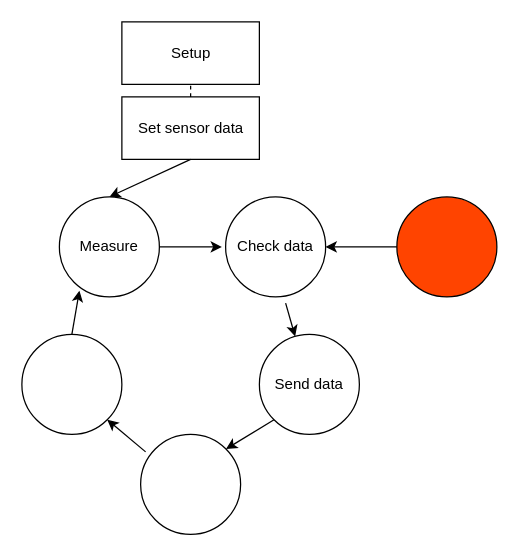
Image size: 519x556. Some labels were removed from this diagram. The centre of each missing label's shape, as x and y in pixels:
"External trigger" belongs at pixel 446 246.
"Sleep" belongs at pixel 190 483.
"Timer for x seconds" belongs at pixel 71 383.
